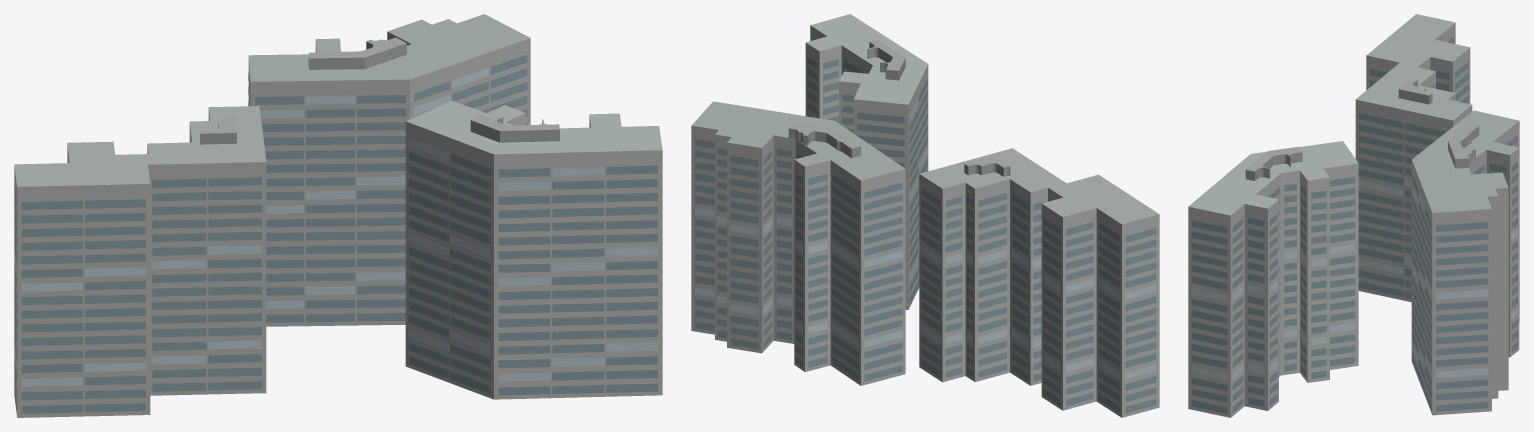
File: apt-a10025898.glb
3 views of the same model, side by side, from view 1: azimuth 30°, elevation 25°; view 2: azimuth 150°, elevation 25°; view 3: azimuth 270°, elevation 25° (orthographic). The views are drawn at different scales.
Parts seen in each view (by area): view 1: apt-a10025898; view 2: apt-a10025898; view 3: apt-a10025898.
Boxes of the visible parts, x1,y1,x2,y2 form: apt-a10025898: (14, 14, 662, 417); apt-a10025898: (691, 14, 1159, 417); apt-a10025898: (1188, 14, 1519, 417).
Bounding box in the file's own units: 112 × 52 × 73.69.
